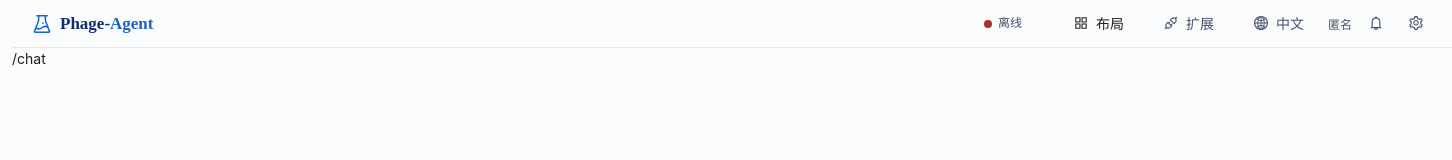
Test: AppHeader navigation between chat and extensions › goes from the chat page to extensions
Expected: the button "聊天" is not shown
Click the button "扩展": {"x": 1189, "y": 23} top-left (1148, 7), bottom-right (1230, 39)
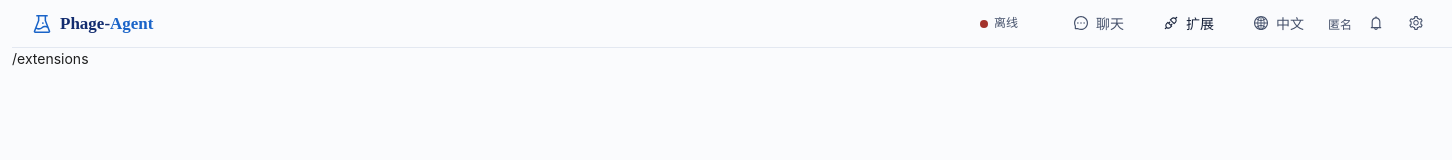
Result: the text with test id "where" reads "/extensions" at top-left (12, 50), bottom-right (88, 67)
